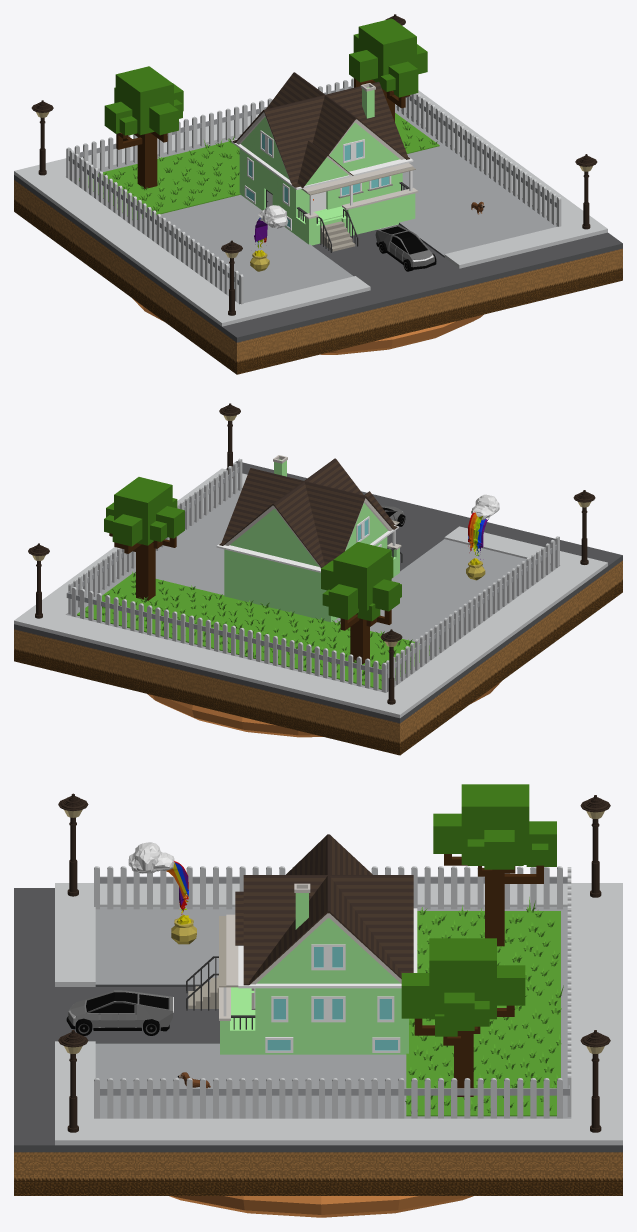
3 renders of one model, top to bottom at view 1: azimuth 30°, elevation 25°; view 2: azimuth 150°, elevation 25°; view 3: azimuth 270°, elevation 25°, orthographic. The views are drawn at different scales.
Parts seen in each view (by area): view 1: Cube.004, Cube.274, VEHICLES_CYBERTRUCK, UNDERGROUND_PIZZA, OBJRANDOM_RAINBOW; view 2: Cube.004, Cube.274, UNDERGROUND_PIZZA, OBJRANDOM_RAINBOW; view 3: Cube.004, Cube.274, UNDERGROUND_PIZZA, VEHICLES_CYBERTRUCK, OBJRANDOM_RAINBOW.
Boxes of the visible parts, x1,y1,x2,y2 form: Cube.004: [14, 14, 622, 374]; Cube.274: [231, 72, 418, 252]; VEHICLES_CYBERTRUCK: [375, 224, 436, 271]; UNDERGROUND_PIZZA: [132, 298, 483, 354]; OBJRANDOM_RAINBOW: [250, 205, 288, 271]; Cube.004: [14, 403, 622, 755]; Cube.274: [216, 455, 402, 622]; UNDERGROUND_PIZZA: [147, 681, 501, 737]; OBJRANDOM_RAINBOW: [466, 494, 499, 580]; Cube.004: [14, 784, 622, 1195]; Cube.274: [186, 834, 417, 1054]; UNDERGROUND_PIZZA: [169, 1196, 473, 1217]; VEHICLES_CYBERTRUCK: [66, 990, 173, 1035]; OBJRANDOM_RAINBOW: [128, 842, 196, 944].
Bounding box in the file's own units: 4000 × 1812 × 4000.
Materials: 41 (3 with a texture image).
